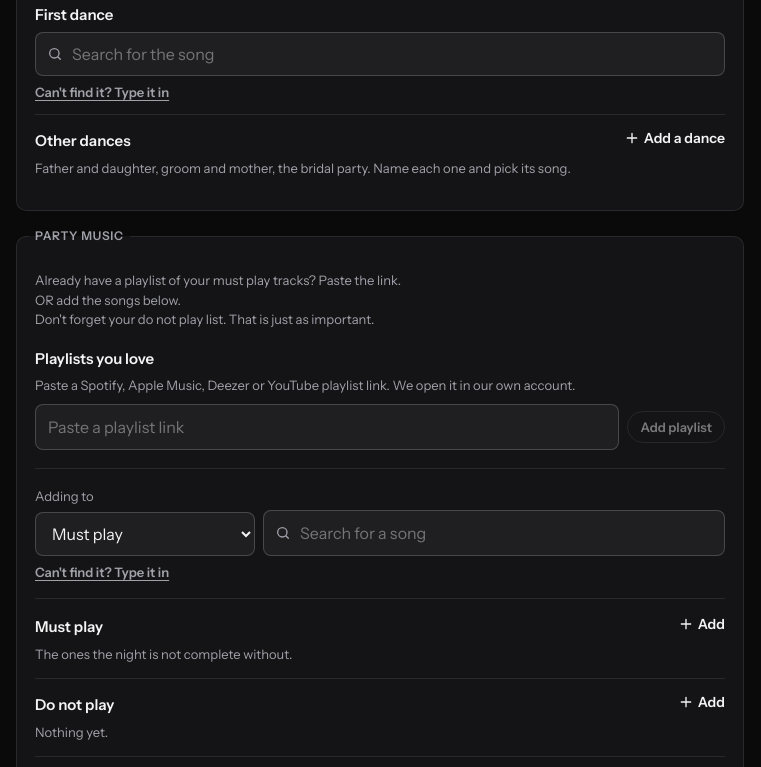
Test: a network failure while adding a link is explained in plain words
(page scrolled)
Expected: the search field labelled "Search for a song" is shown, [263, 510, 725, 556]
Type "https://open.spotify.com/playlist/x" into the field named "Playlist link to add". click: (327, 427)
box: [35, 404, 620, 450]
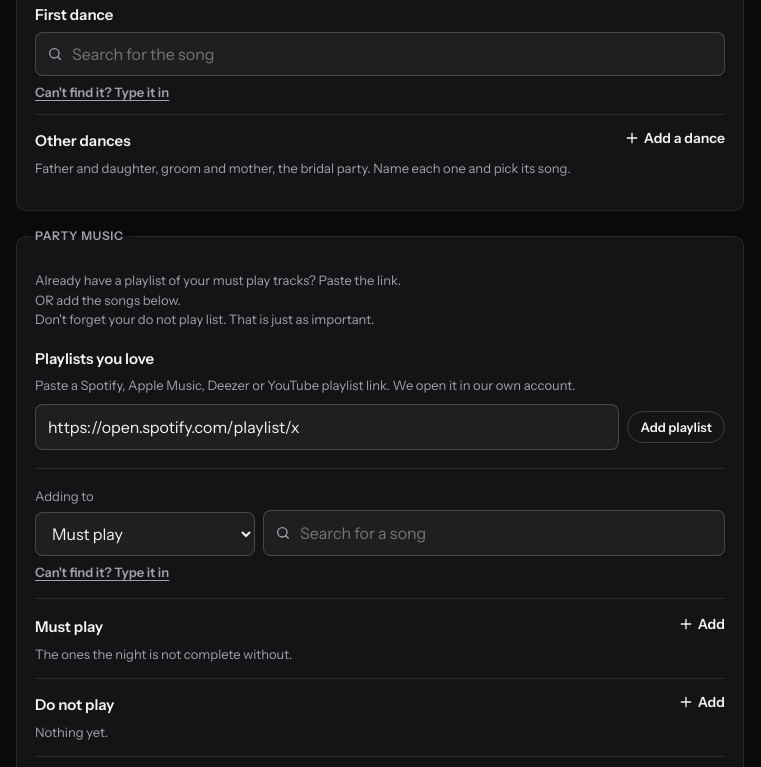
Click the button "Add playlist". click: (676, 427)
box: [628, 411, 725, 443]
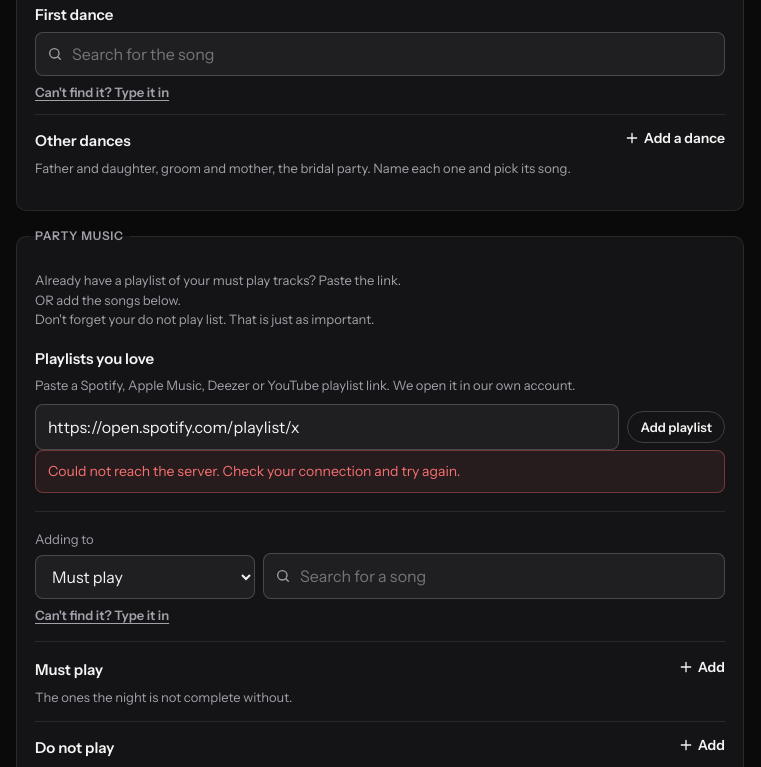
Expected: the message reads "Could not reach the server. Check your connection and try again.", [48, 462, 460, 480]
